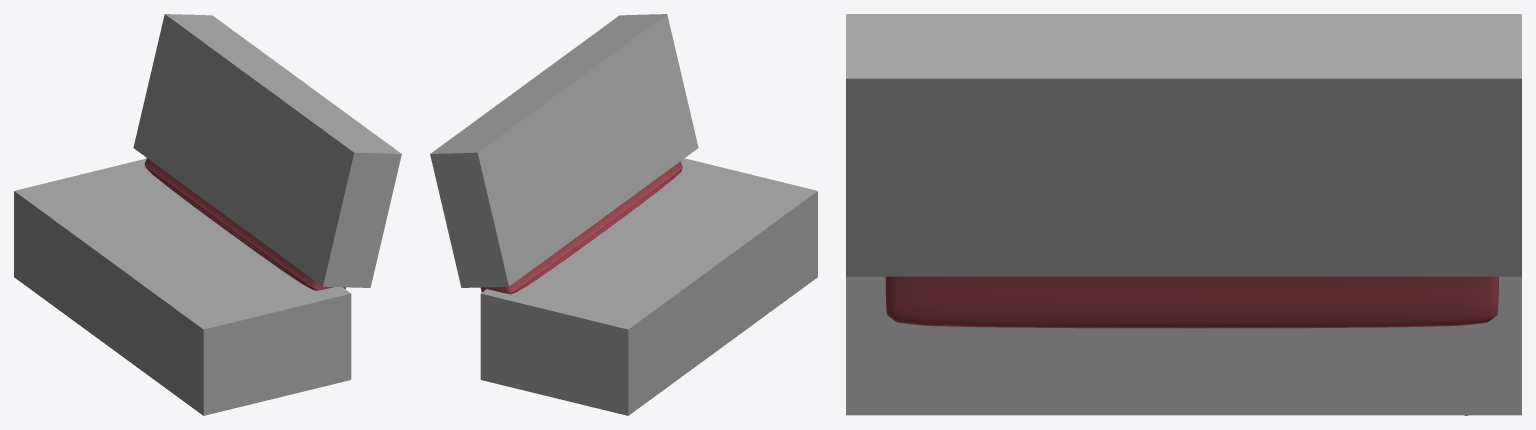
Rendered from couch2.fbx.
The picture shows the model from 3 angles, left to right: view 1: azimuth 30°, elevation 25°; view 2: azimuth 150°, elevation 25°; view 3: azimuth 270°, elevation 25°; orthographic projection. The views are drawn at different scales.
Parts seen in each view (by area): view 1: UCXB_Couch, UCXA_Couch, Couch; view 2: UCXB_Couch, UCXA_Couch, Couch; view 3: UCXA_Couch, UCXB_Couch, Couch.
Boxes of the visible parts, box(x1,y1,x2,y2) form: UCXB_Couch: box(14, 158, 351, 415); UCXA_Couch: box(133, 14, 401, 287); Couch: box(144, 158, 345, 290); UCXB_Couch: box(480, 158, 817, 415); UCXA_Couch: box(430, 14, 698, 287); Couch: box(480, 161, 682, 294); UCXA_Couch: box(846, 14, 1521, 276); UCXB_Couch: box(846, 276, 1521, 415); Couch: box(885, 276, 1498, 415).
Size of the model in its own units: 62.23 by 68.77 by 103.
